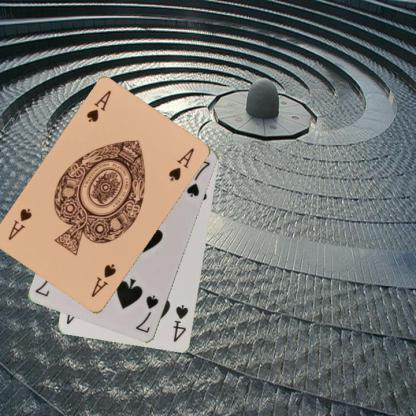4s: (170, 303, 191, 344)
7s: (133, 292, 160, 335)
As: (89, 261, 118, 299), (84, 88, 112, 124)
